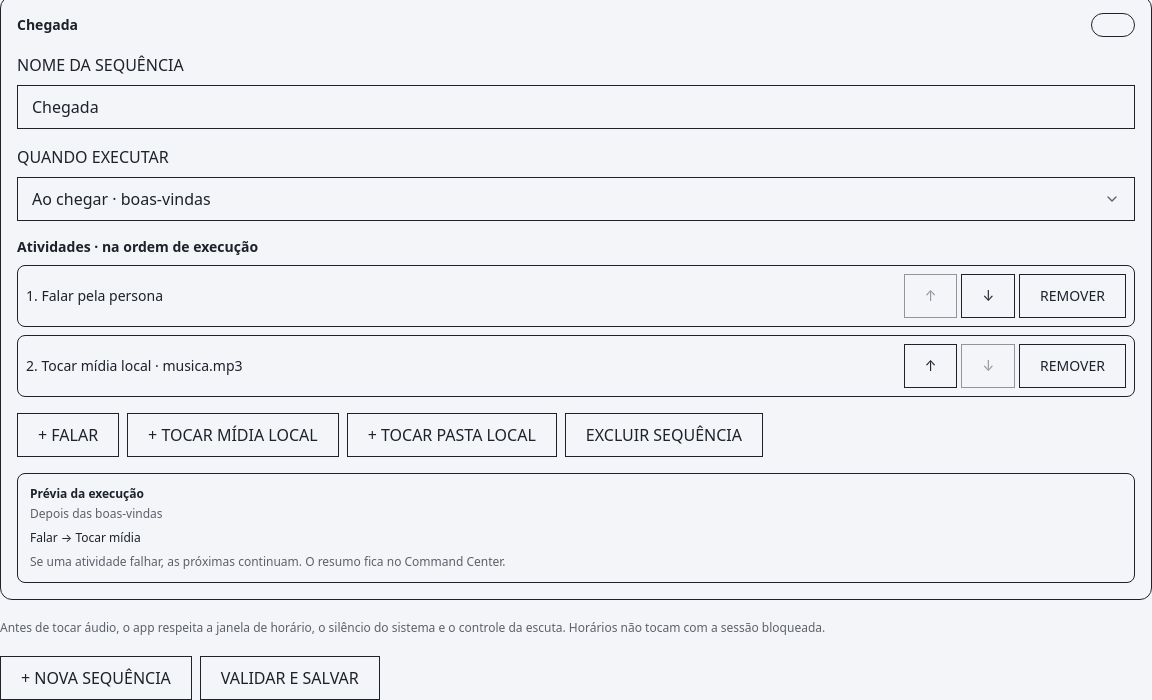
Scenario: editor do cronograma › exibe a recusa de política retornada pelo main
The image size is (1152, 700).
(page scrolled)
expect the text "Chegada" is shown: met, box [17,15,78,35]
Step 1. Click the button "Validar e salvar" → (290, 678), box [200,656,380,699]
(page scrolled)
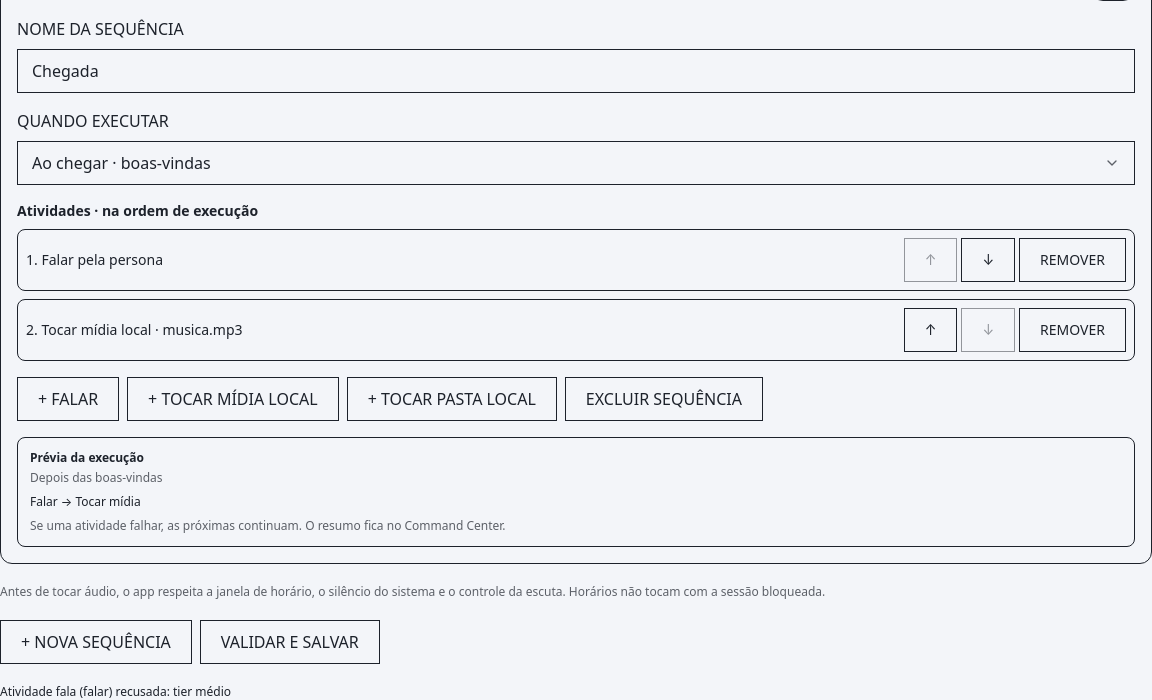
expect the message shows "Atividade fala (falar) recusada": met, box [0,683,231,699]
